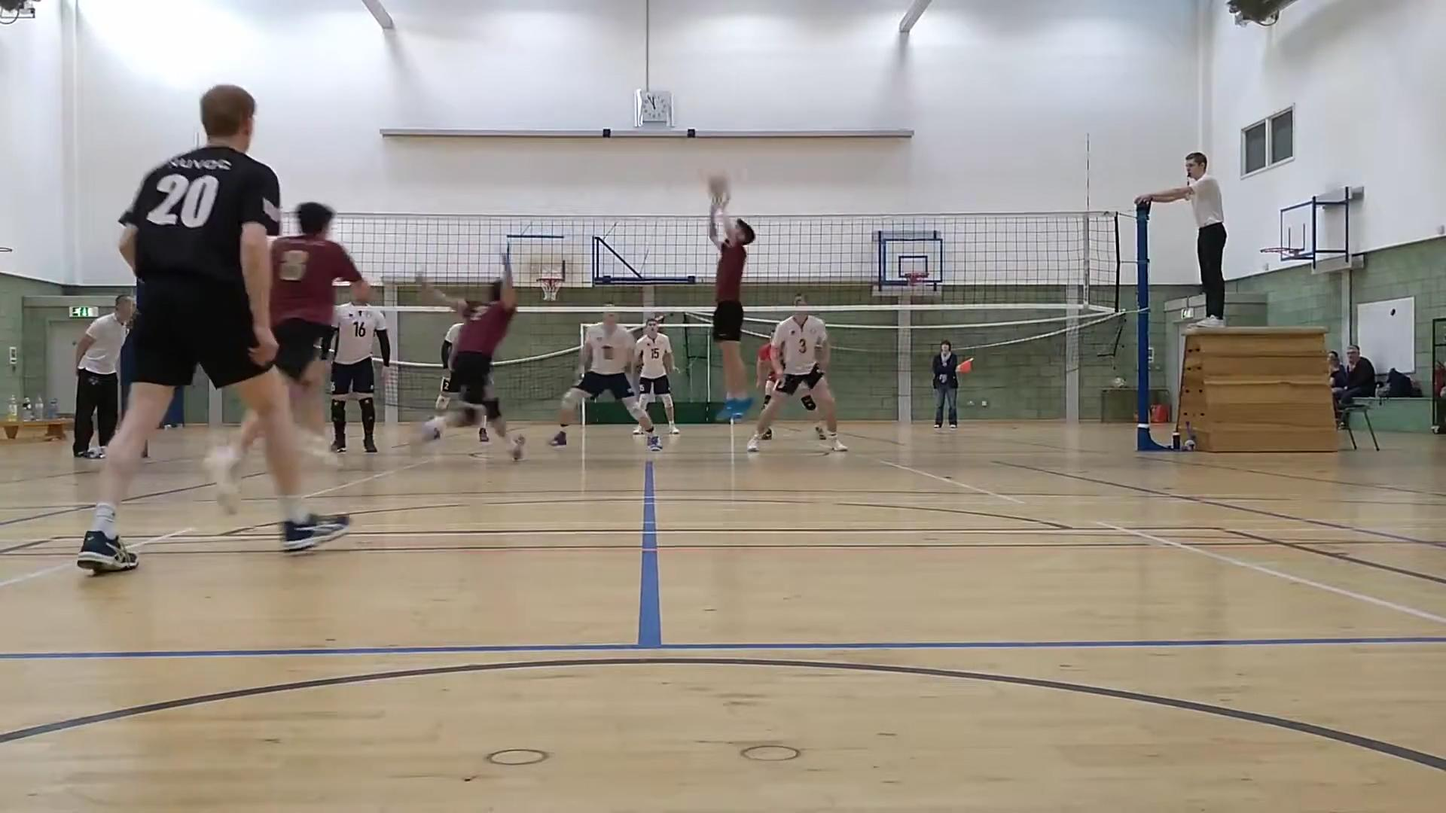alzata: (706, 162, 770, 441)
